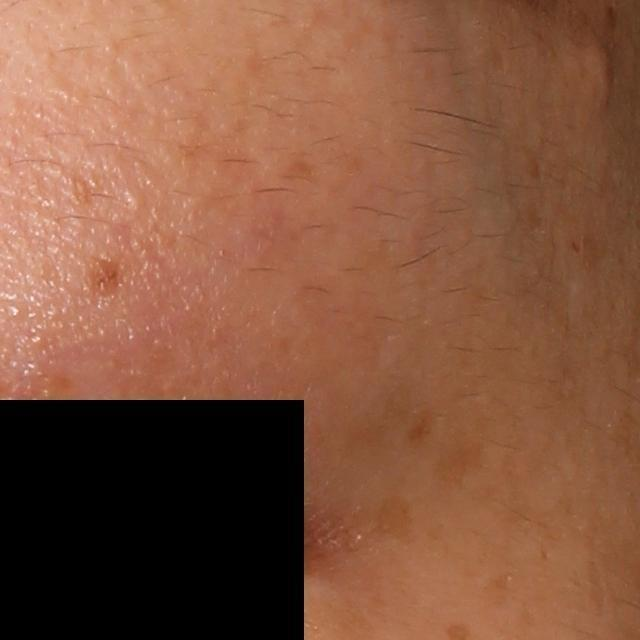comedo: (121, 182, 155, 215)
melasma: (175, 108, 279, 186), (409, 396, 492, 480), (357, 493, 411, 547), (84, 257, 132, 303)
